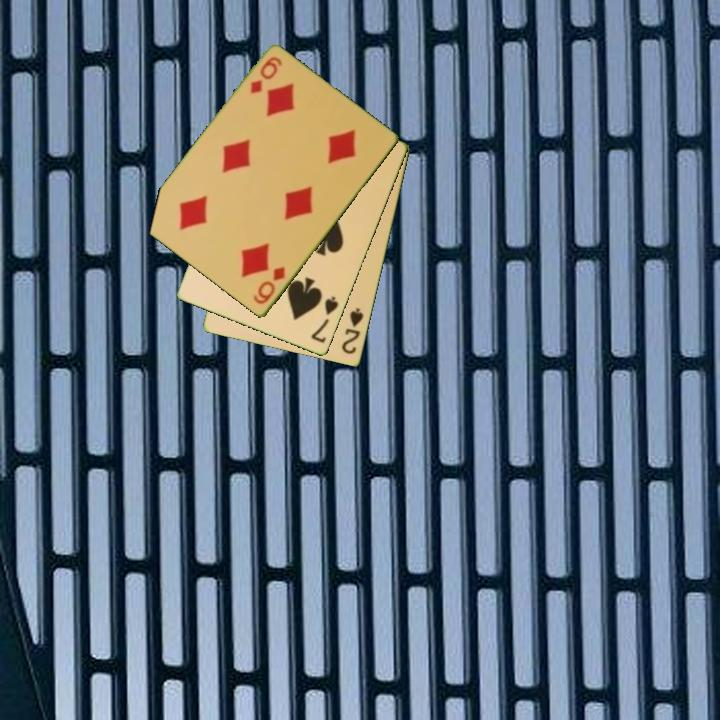2s: (338, 304, 367, 357)
6d: (250, 263, 288, 308), (247, 53, 285, 97)
7s: (308, 293, 341, 346)
